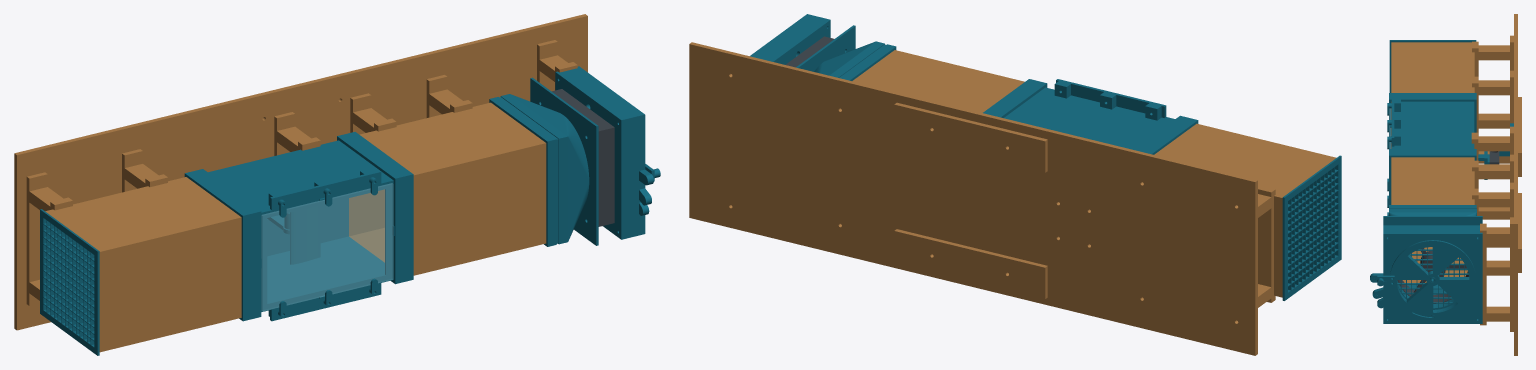
Rendered from Conjunto_COMPLETO.obj.
3 renders of one model, left to right at view 1: azimuth 30°, elevation 25°; view 2: azimuth 150°, elevation 25°; view 3: azimuth 270°, elevation 25°, orthographic. The views are drawn at different scales.
Parts seen in each view (by area): view 1: base_entrada, base_saida, entrada_teto, saida_teto, acrilico, camara, entrada_lateral_fundo, saida_lateral_fundo, parte_5, colmeia, moldura, U02 (+17 smaller); view 2: base_entrada, base_saida, colmeia, entrada_lateral_fundo, camara, saida_lateral_fundo, tala_80, tala_-80, parte_5, parte_1, pe_25_lamina_1, moldura (+4 smaller); view 3: parte_2, entrada_lateral_fundo, camara, saida_lateral_fundo, parte_3, parte_5, pe_695_lamina_4, grade, pe_25_lamina_4, base_saida, U02, U01 (+28 smaller).
Boxes of the visible parts, x1=… form: base_entrada: x1=14, y1=83, x2=302, y2=330; base_saida: x1=300, y1=14, x2=587, y2=144; entrada_teto: x1=99, y1=216, x2=241, y2=352; saida_teto: x1=413, y1=142, x2=546, y2=275; acrilico: x1=261, y1=183, x2=393, y2=310; camara: x1=208, y1=140, x2=391, y2=316; entrada_lateral_fundo: x1=47, y1=178, x2=239, y2=250; saida_lateral_fundo: x1=361, y1=103, x2=544, y2=173; parte_5: x1=500, y1=77, x2=598, y2=245; colmeia: x1=40, y1=209, x2=99, y2=355; moldura: x1=261, y1=170, x2=394, y2=321; U02: x1=337, y1=132, x2=413, y2=284; base_entrada: x1=972, y1=111, x2=1257, y2=355; base_saida: x1=689, y1=42, x2=974, y2=286; colmeia: x1=1282, y1=155, x2=1341, y2=300; entrada_lateral_fundo: x1=1154, y1=124, x2=1334, y2=196; camara: x1=1004, y1=81, x2=1173, y2=149; saida_lateral_fundo: x1=852, y1=51, x2=1023, y2=112; tala_80: x1=894, y1=102, x2=1047, y2=172; tala_-80: x1=894, y1=229, x2=1047, y2=299; parte_5: x1=796, y1=25, x2=884, y2=77; parte_1: x1=764, y1=17, x2=830, y2=64; pe_25_lamina_1: x1=1258, y1=188, x2=1275, y2=307; moldura: x1=1044, y1=79, x2=1174, y2=120; parte_2: x1=1370, y1=232, x2=1482, y2=323; entrada_lateral_fundo: x1=1393, y1=42, x2=1472, y2=92; camara: x1=1394, y1=98, x2=1474, y2=148; saida_lateral_fundo: x1=1393, y1=157, x2=1472, y2=204; parte_3: x1=1390, y1=240, x2=1475, y2=318; parte_5: x1=1383, y1=209, x2=1482, y2=294; pe_695_lamina_4: x1=1480, y1=222, x2=1513, y2=331; grade: x1=1383, y1=228, x2=1479, y2=309; pe_25_lamina_4: x1=1472, y1=40, x2=1513, y2=128; base_saida: x1=1514, y1=119, x2=1517, y2=355; U02: x1=1389, y1=149, x2=1476, y2=204; U01: x1=1389, y1=93, x2=1476, y2=148.
Size of the model in its own units: 752 by 220 by 229.
